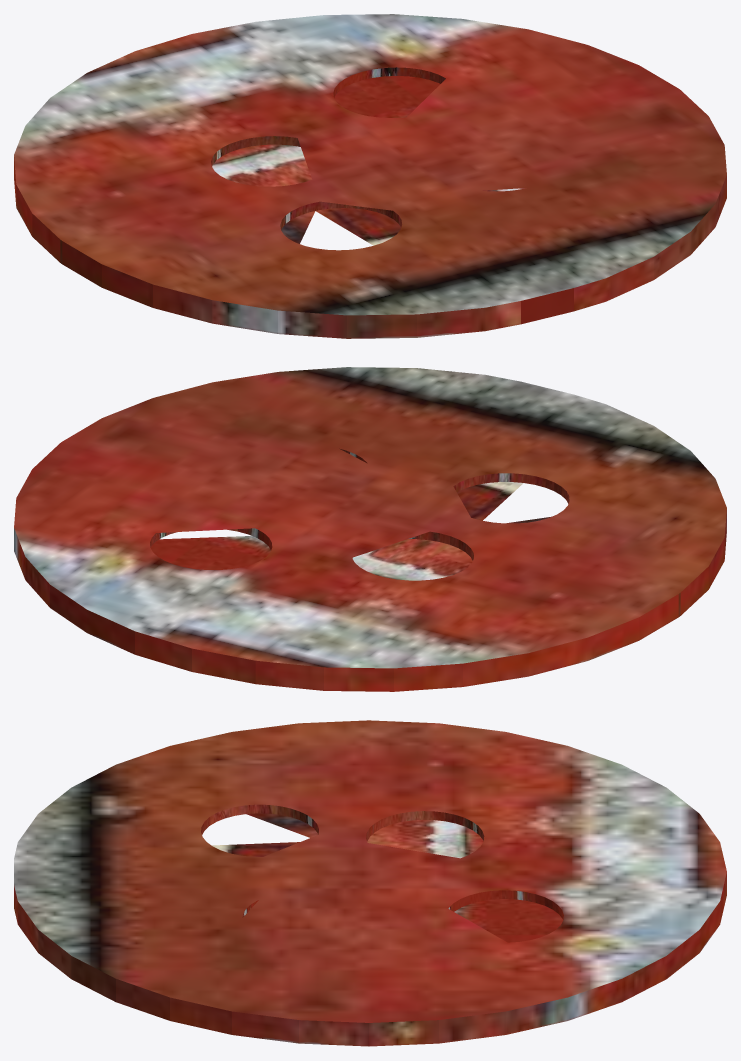
The model's file is boton_Textura.obj.
3 views of the same model, one above another, from view 1: azimuth 30°, elevation 25°; view 2: azimuth 150°, elevation 25°; view 3: azimuth 270°, elevation 25° (orthographic).
Visible parts, largest first — view 1: Cube; view 2: Cube; view 3: Cube.
Part boxes in pixels (<box>): Cube: <box>14,14,726,338</box>; Cube: <box>14,367,726,691</box>; Cube: <box>14,720,726,1046</box>.
Bounding box in the file's own units: 11.13 × 0.4033 × 11.09.
